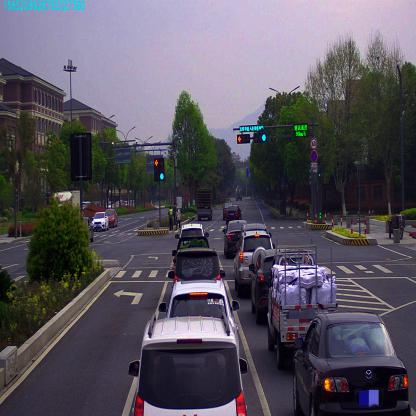traffic-light: (241, 124, 264, 134), (236, 135, 250, 142), (255, 135, 266, 140)
